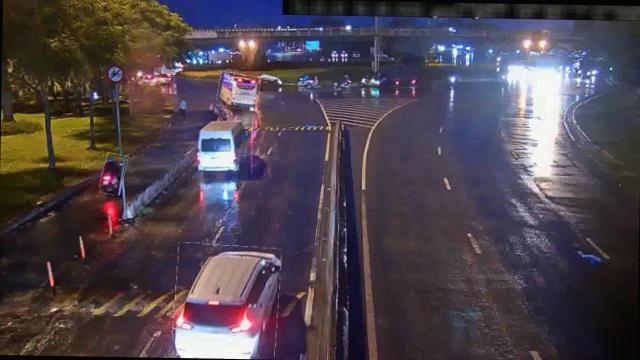Bike: (100, 152, 126, 194)
Bus: (196, 117, 252, 174), (216, 72, 259, 109)
Car: (172, 243, 280, 358)
